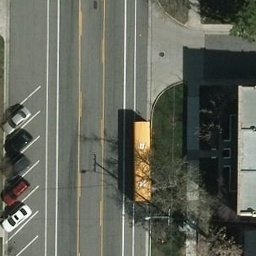car: (3, 204, 31, 237), (4, 129, 32, 156), (3, 178, 29, 206), (3, 159, 30, 181), (4, 109, 28, 133)
